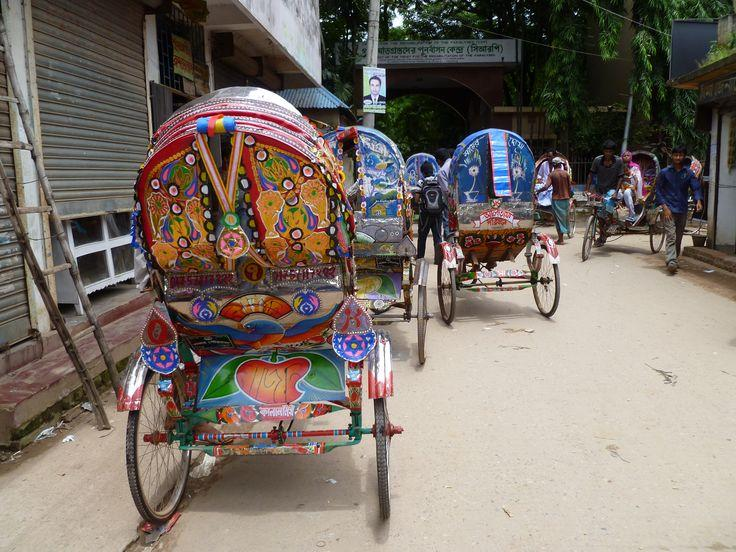Rickshaw: (118, 87, 400, 522), (325, 126, 429, 363), (438, 129, 559, 323), (581, 150, 664, 260), (404, 152, 439, 212), (534, 150, 573, 191)
